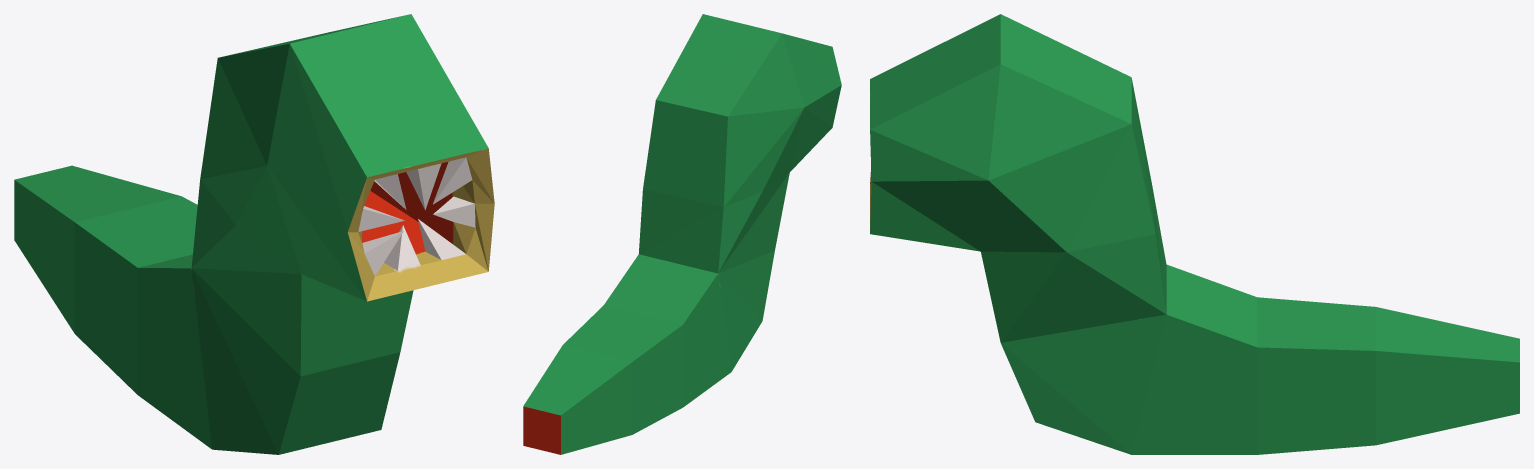
The model's file is monster_01_colored.fbx.
The picture shows the model from 3 angles, left to right: view 1: azimuth 30°, elevation 25°; view 2: azimuth 150°, elevation 25°; view 3: azimuth 270°, elevation 25°; orthographic projection. The views are drawn at different scales.
Parts seen in each view (by area): view 1: pCube1; view 2: pCube1; view 3: pCube1.
Boxes of the visible parts, bbox=[...] form: pCube1: bbox=[14, 14, 494, 454]; pCube1: bbox=[523, 14, 841, 454]; pCube1: bbox=[870, 14, 1519, 454].
Bounding box in the file's own units: 1.58 × 3.63 × 5.48.
